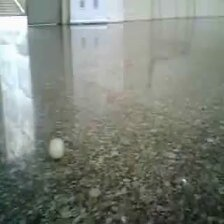w: (48, 137, 67, 161)
